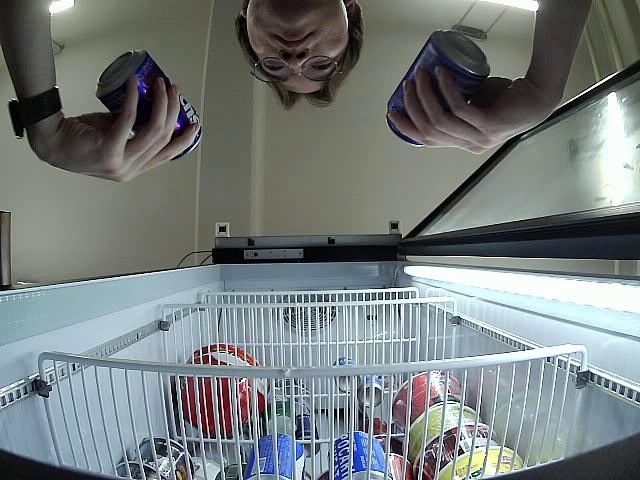00_hand: (56, 73, 199, 186), (389, 66, 555, 158)
14_welchsGrape: (95, 48, 206, 161), (385, 32, 492, 148)
